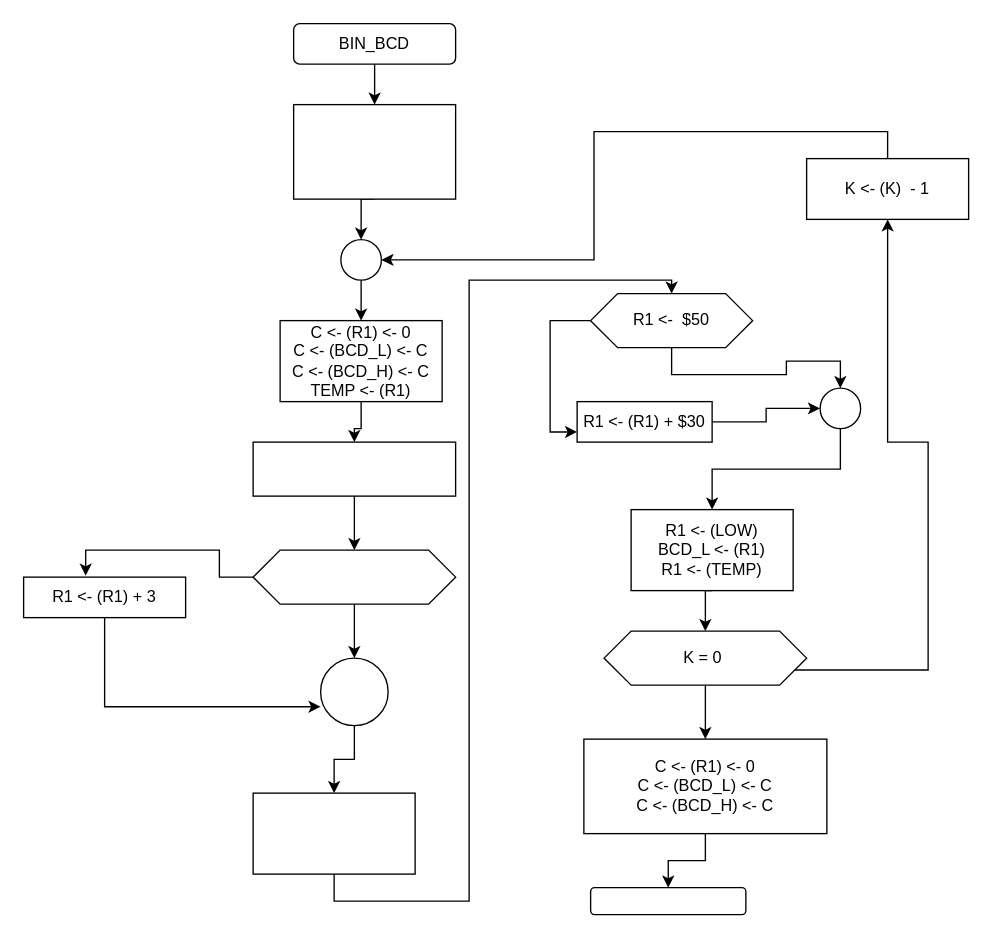
The diagram is 992 pixels wide and 938 high, and some of its shapes have lost their labels. The box of each missing label's shape, as (x1, y1, x2, y2) in pixels:
LOW <- (R1) R1 <- $F0 R1 <- (R1) && BCD_L: (252, 792, 415, 874)
R1 < 3: (252, 549, 456, 604)
R1 <- $0F R1 <- (R1) && BCD_L: (252, 441, 456, 496)
R1 <- VOLUMEN k <- 7 BCD_H <- 0 BCD_L <- 0: (292, 103, 456, 199)
RETURN: (589, 886, 746, 915)
